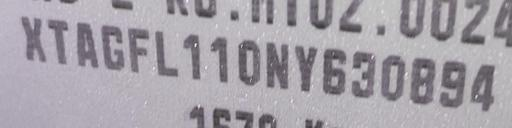letter: (469, 63, 499, 113), (292, 41, 318, 95), (264, 40, 290, 94), (438, 58, 466, 108), (350, 49, 378, 98), (409, 56, 437, 105), (19, 15, 47, 64), (98, 23, 126, 71), (321, 46, 347, 96), (152, 28, 178, 78), (74, 21, 100, 70), (125, 26, 151, 75), (380, 52, 406, 100), (236, 38, 262, 86), (45, 19, 71, 66), (208, 34, 230, 86), (181, 32, 203, 81)
